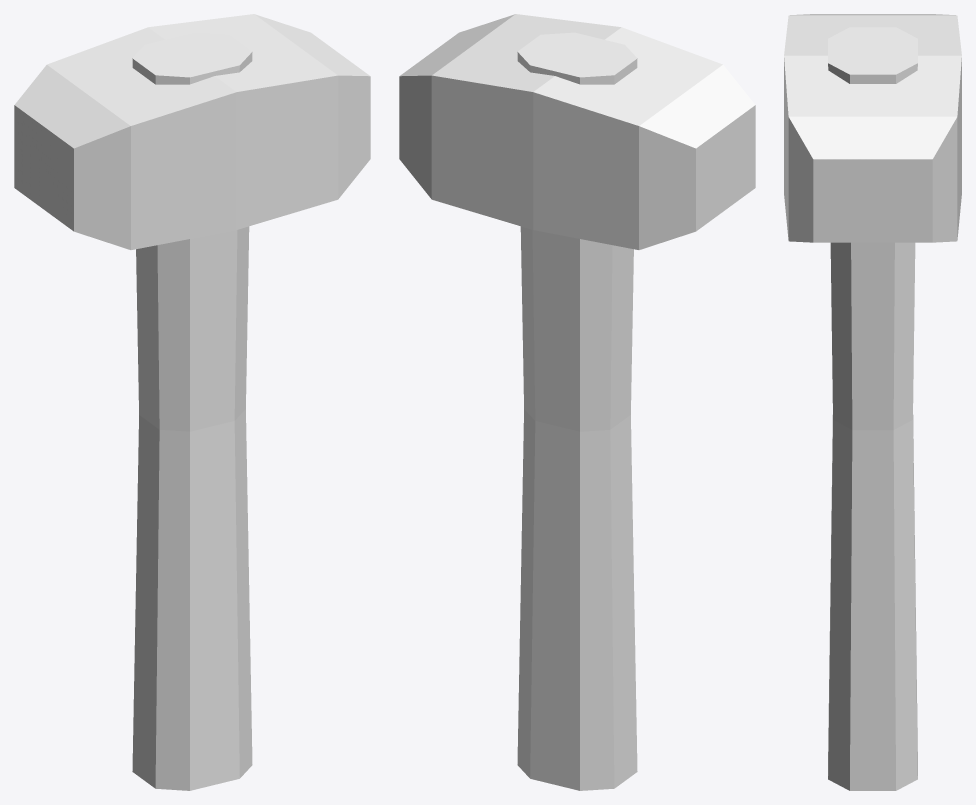
Rendered from Tool_Hammer_04.glb.
3 views of the same model, side by side, from view 1: azimuth 30°, elevation 25°; view 2: azimuth 150°, elevation 25°; view 3: azimuth 270°, elevation 25° (orthographic).
Parts seen in each view (by area): view 1: Tool_Hammer_04; view 2: Tool_Hammer_04; view 3: Tool_Hammer_04.
Part boxes in pixels (bbox=[...]): Tool_Hammer_04: bbox=[14, 14, 370, 790]; Tool_Hammer_04: bbox=[399, 14, 755, 790]; Tool_Hammer_04: bbox=[784, 14, 961, 790].
Size of the model in its own units: 0.122 by 0.2804 by 0.0631.
Materials: 1 (1 with a texture image).
